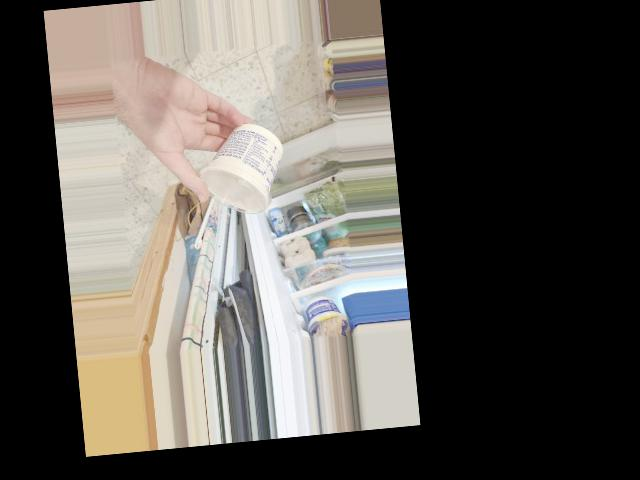cotage: (202, 130, 285, 218)
